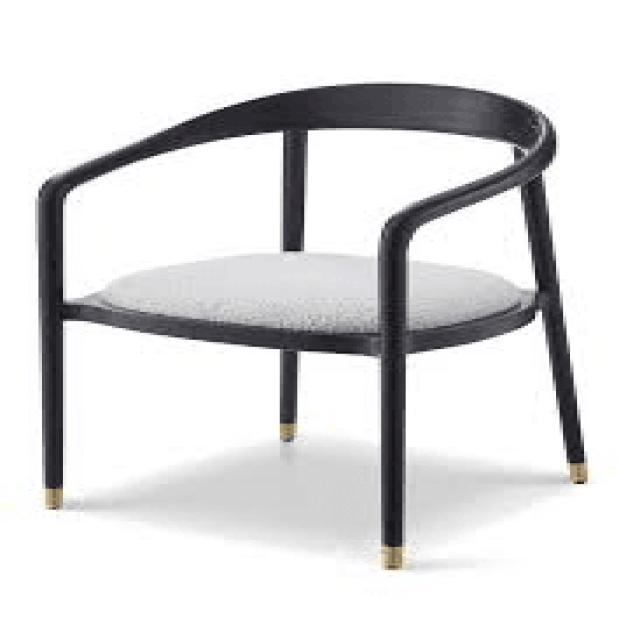chair: (23, 78, 600, 575), (38, 82, 556, 308)
